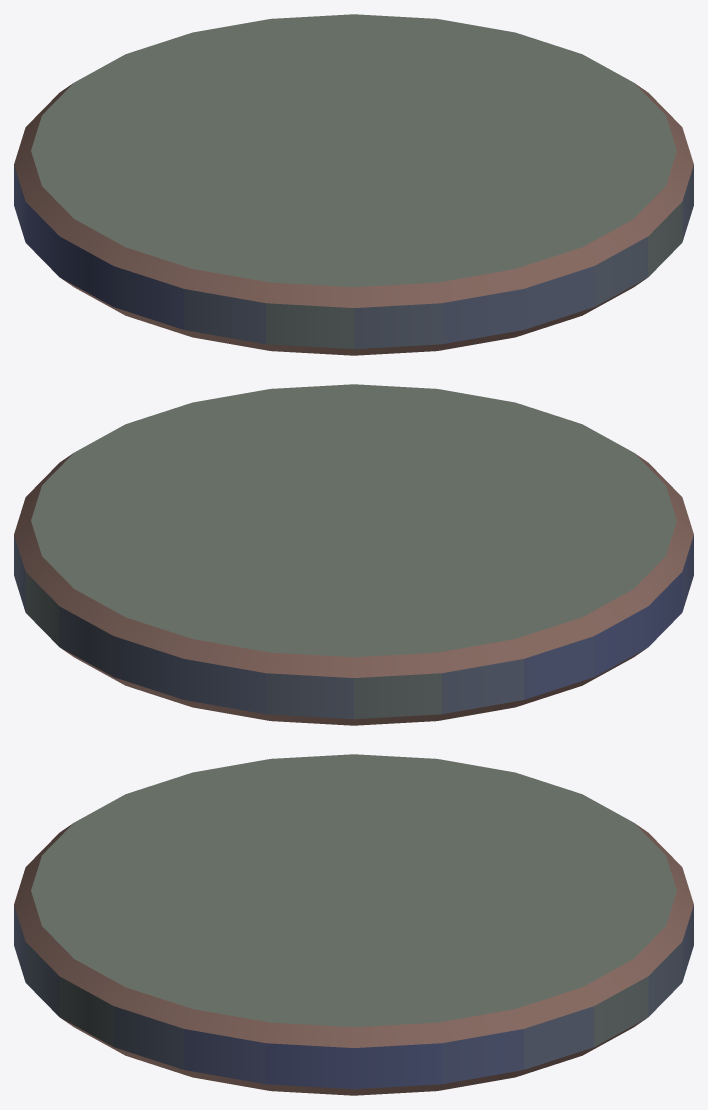
The model's file is Floor_hole_round_cover_visible.fbx.
3 views of the same model, one above another, from view 1: azimuth 30°, elevation 25°; view 2: azimuth 150°, elevation 25°; view 3: azimuth 270°, elevation 25° (orthographic).
Visible parts, largest first — view 1: Mesh; view 2: Mesh; view 3: Mesh.
Boxes of the visible parts, x1,y1,x2,y2 form: Mesh: [14, 14, 693, 355]; Mesh: [14, 384, 693, 725]; Mesh: [14, 754, 693, 1095].
Size of the model in its own units: 90 by 10 by 90.
